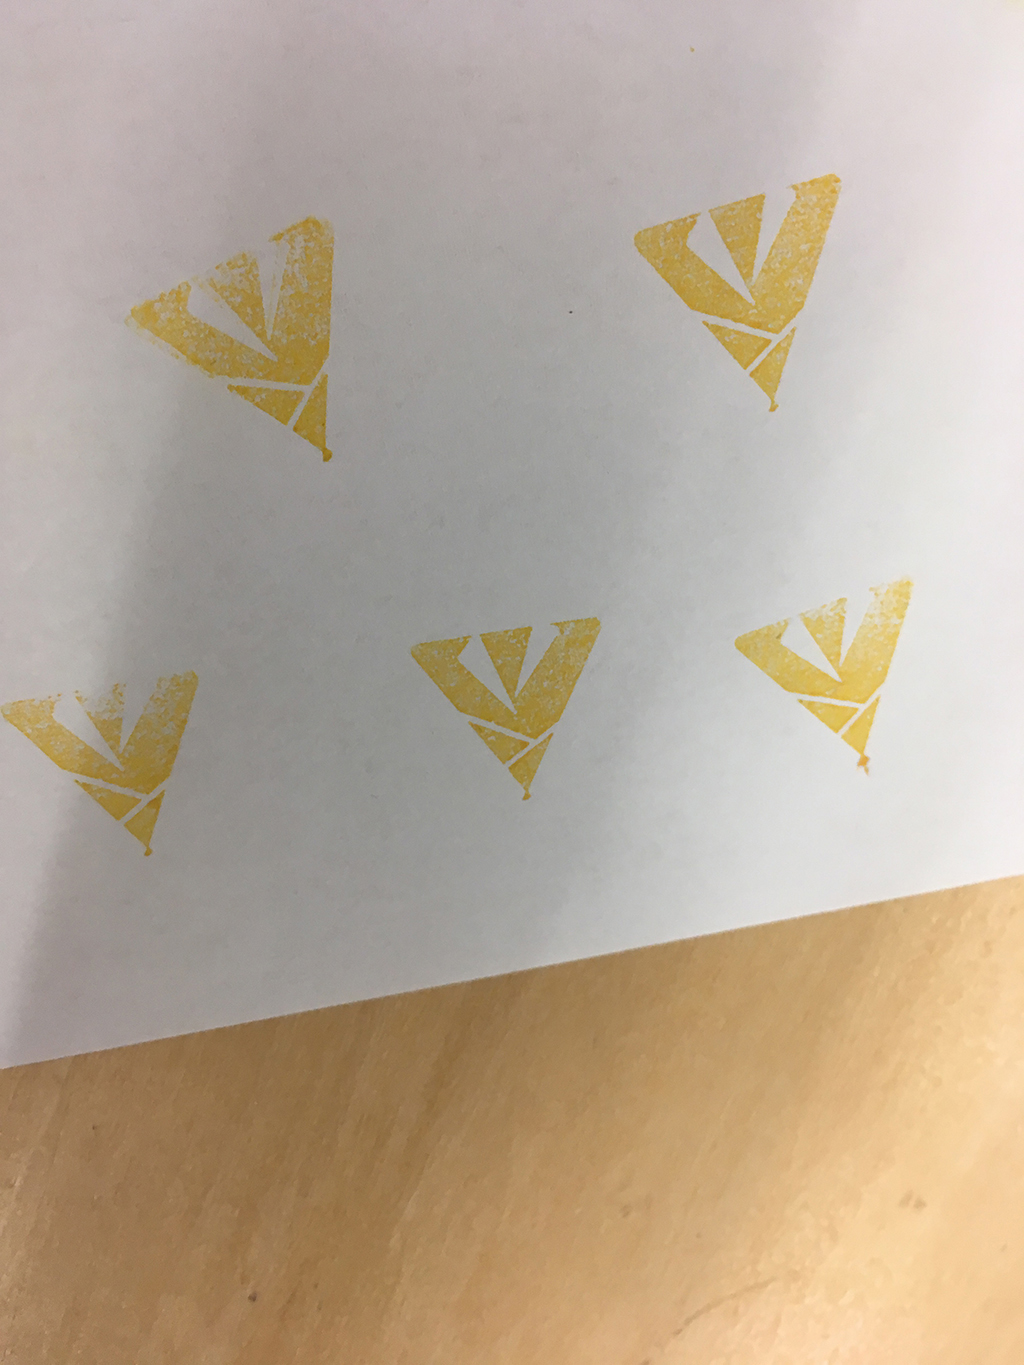tent: (105, 191, 359, 485), (617, 159, 868, 424), (394, 608, 621, 831), (714, 556, 927, 794), (1, 648, 216, 875)
